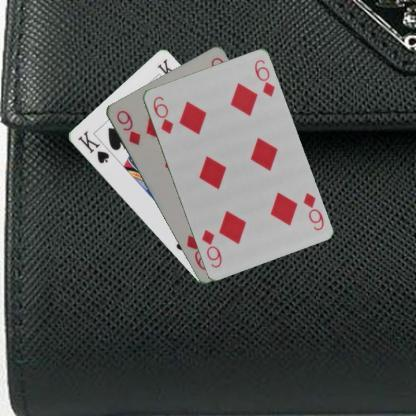6d: (300, 190, 325, 232), (150, 94, 174, 136)
9d: (113, 107, 142, 147)
Ks: (74, 128, 110, 166)
